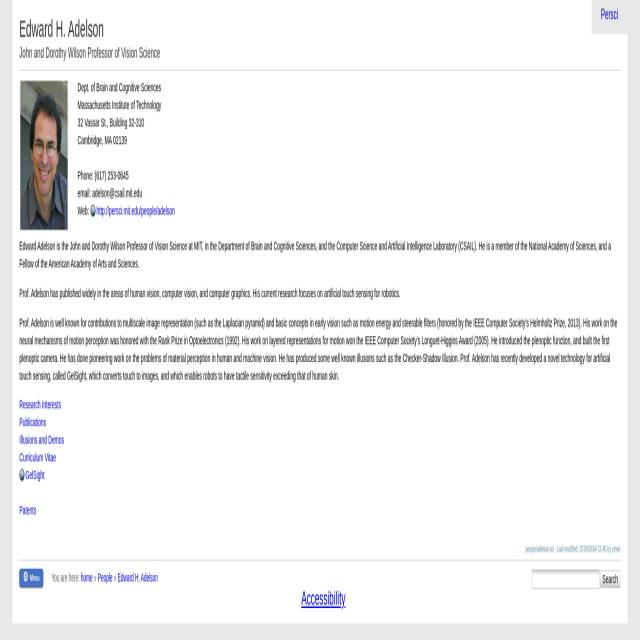button: (20, 81, 68, 230), (19, 568, 43, 588)
field: (532, 570, 599, 589), (600, 571, 620, 588)
